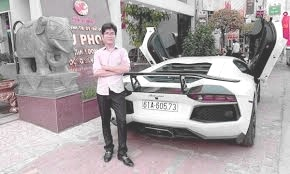Bien-so: (142, 99, 177, 110)
